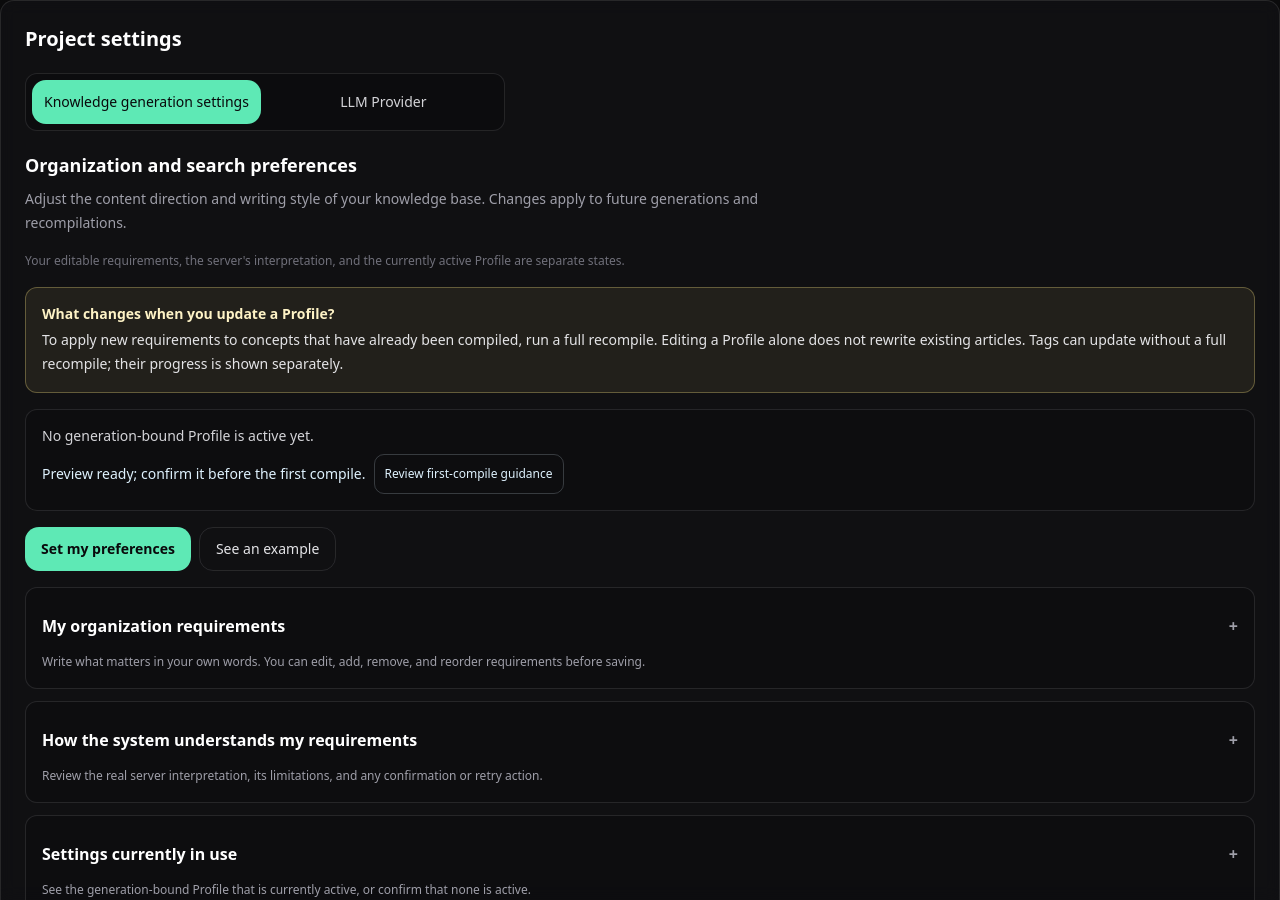
it: LWC-211 Project Profile › shows first-compile guidance effects, explicitly confirms it, and keeps it separate from an active Profile
Click the button "How the system understands my requirements".
click(230, 740)  # box 42,718 -> 1238,762
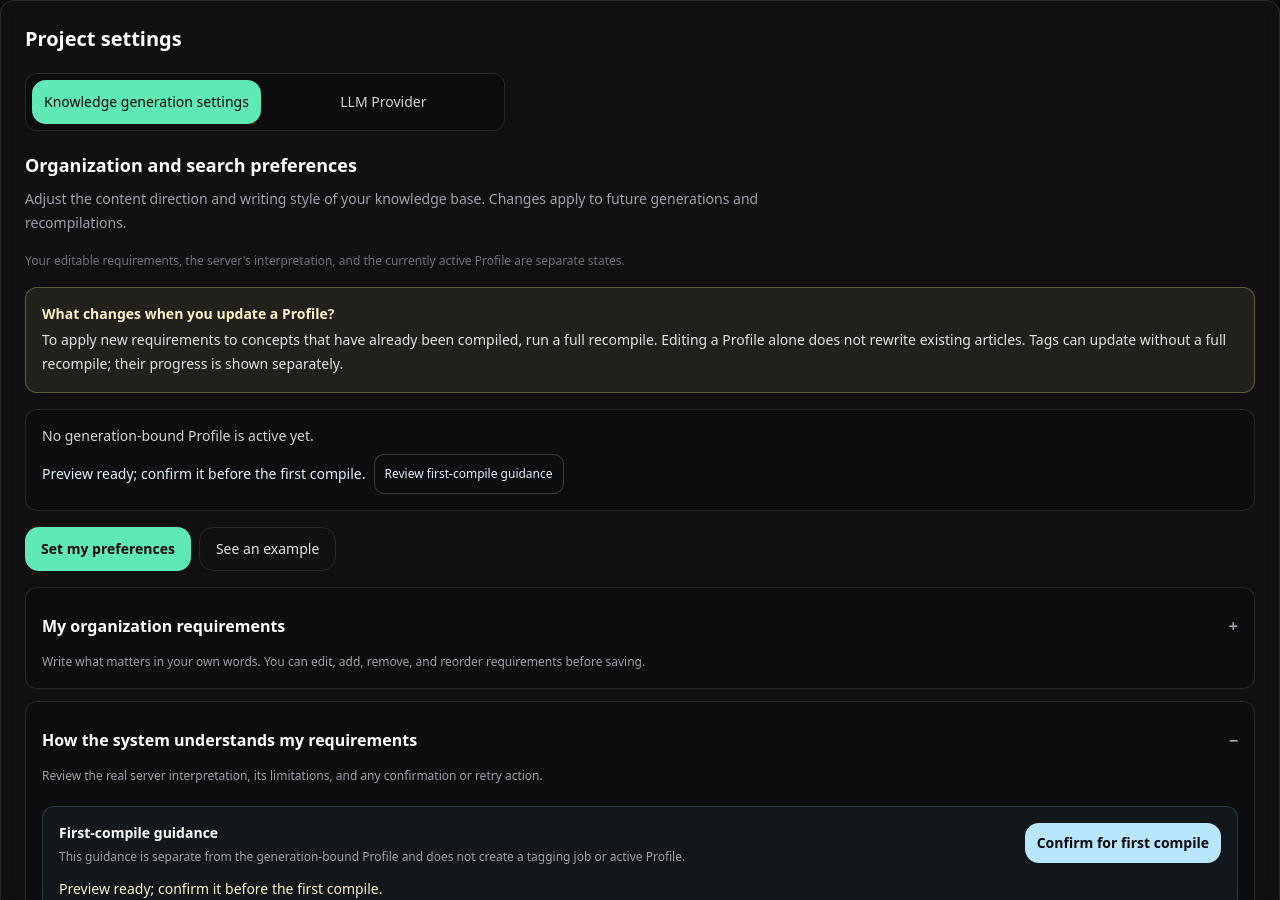
Expected: the text "No generation-bound Profile is active yet." is shown, 42,426 -> 314,445
Click the button "Confirm for first compile".
click(1123, 843)  # box 1025,823 -> 1221,863
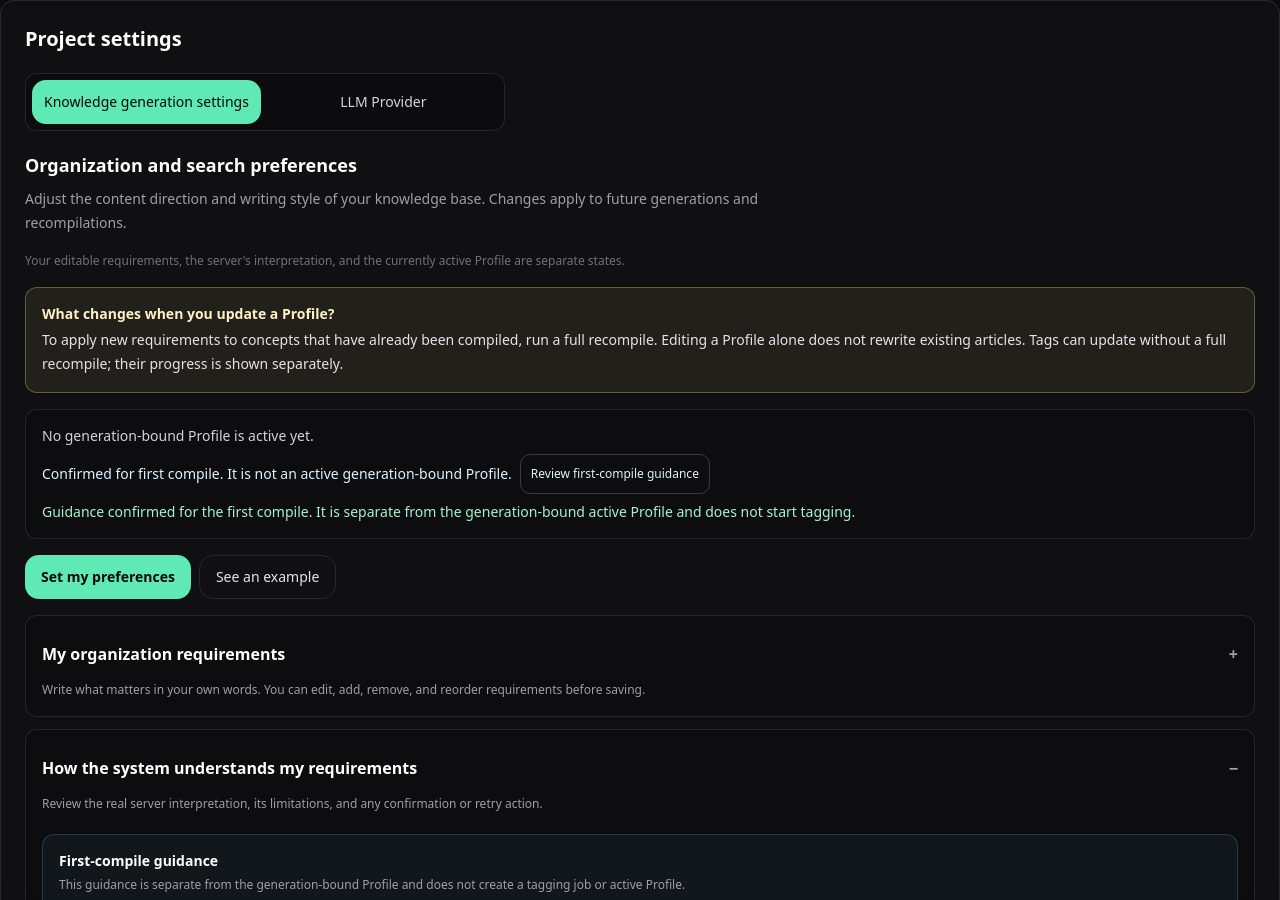
Expected: the text "Confirmed for first compile" is shown, 42,464 -> 512,483
Expected: the text "does not start tagging" is shown, 42,502 -> 855,521
